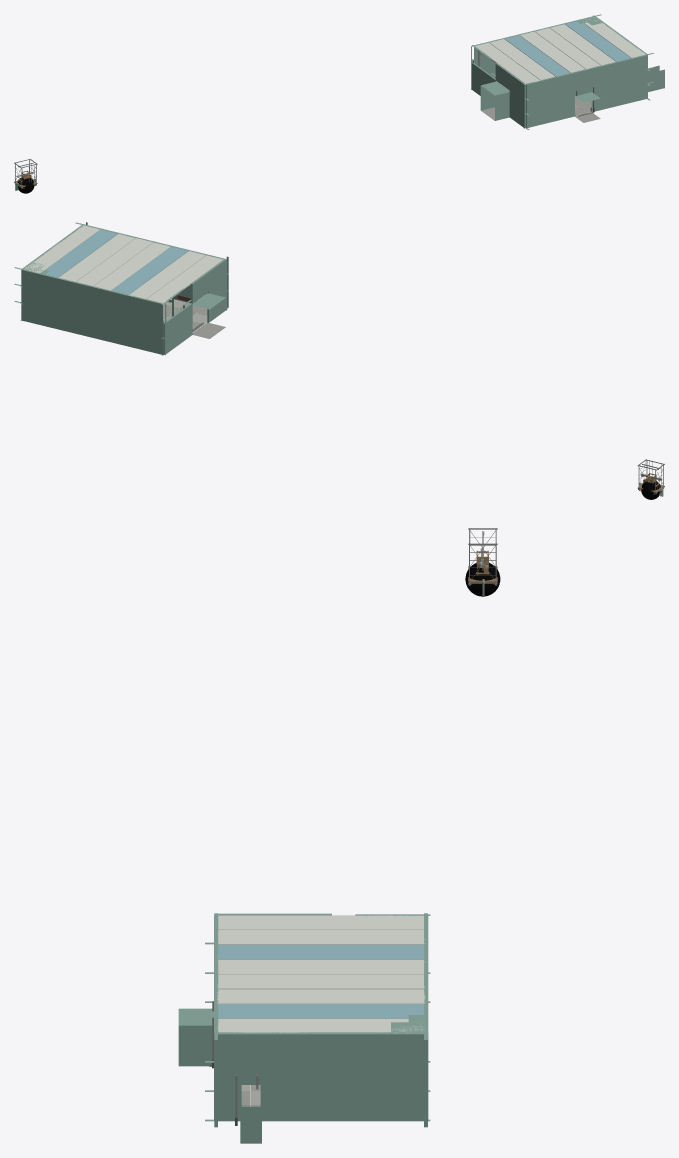
File: source-earthfall-ellery-aside.glb
The picture shows the model from 3 angles, top to bottom: view 1: azimuth 30°, elevation 25°; view 2: azimuth 150°, elevation 25°; view 3: azimuth 270°, elevation 25°; orthographic projection. The views are drawn at different scales.
Parts seen in each view (by area): view 1: earthfall_ellery_return:dock-grey-exterior, earthfall_ellery_roof-east:1:0, earthfall_ellery_roof-west:1:0, earthfall_ellery_roof-west:1:1, earthfall_ellery_roof-east:1:1, earthfall_ellery_roof-west:0:1, earthfall_ellery_roof-east:0:0, earthfall_ellery_roof-west:0:0, earthfall_ellery_roof-east:2:0, earthfall_ellery_roof-west:2:1, earthfall_ellery_roof-east:2:1, earthfall_ellery_roof-west:2:0 (+5 smaller); view 2: earthfall_ellery_roof-west:1:0, earthfall_ellery_roof-west:1:1, earthfall_ellery_roof-east:1:0, earthfall_ellery_roof-east:1:1, earthfall_ellery_roof-east:0:0, earthfall_ellery_roof-west:0:1, earthfall_ellery_roof-west:0:0, earthfall_ellery_roof-east:0:1, earthfall_ellery_roof-west:2:1, earthfall_ellery_roof-west:2:0, earthfall_ellery_roof-east:2:0, earthfall_ellery_roof-east:2:1 (+1 smaller); view 3: earthfall_ellery_roof-west:1:0, earthfall_ellery_roof-east:1:0, earthfall_ellery_roof-west:1:1, earthfall_ellery_roof-east:1:1, earthfall_ellery_roof-east:0:0, earthfall_ellery_roof-west:0:1, earthfall_ellery_roof-west:0:0, earthfall_ellery_return:dock-inner-service, earthfall_ellery_roof-east:2:0, earthfall_ellery_roof-west:2:1, earthfall_ellery_roof-west:2:0, earthfall_ellery_roof-east:2:1 (+15 smaller).
Boxes of the visible parts, box(x1,y1,x2,y2) form: earthfall_ellery_return:dock-grey-exterior: box(480, 81, 509, 120); earthfall_ellery_roof-east:1:0: box(552, 37, 600, 57); earthfall_ellery_roof-west:1:0: box(491, 51, 539, 72); earthfall_ellery_roof-west:1:1: box(521, 44, 569, 65); earthfall_ellery_roof-east:1:1: box(582, 29, 629, 50); earthfall_ellery_roof-west:0:1: box(504, 31, 551, 51); earthfall_ellery_roof-east:0:0: box(535, 24, 581, 43); earthfall_ellery_roof-west:0:0: box(475, 39, 520, 58); earthfall_ellery_roof-east:2:0: box(571, 50, 615, 69); earthfall_ellery_roof-west:2:1: box(540, 58, 585, 76); earthfall_ellery_roof-east:2:1: box(601, 43, 645, 61); earthfall_ellery_roof-west:2:0: box(510, 65, 554, 83); earthfall_ellery_roof-west:1:0: box(149, 264, 205, 288); earthfall_ellery_roof-west:1:1: box(114, 255, 170, 279); earthfall_ellery_roof-east:1:0: box(79, 247, 135, 271); earthfall_ellery_roof-east:1:1: box(44, 238, 99, 262); earthfall_ellery_roof-east:0:0: box(59, 263, 113, 286); earthfall_ellery_roof-west:0:1: box(94, 271, 148, 294); earthfall_ellery_roof-west:0:0: box(129, 280, 182, 303); earthfall_ellery_roof-east:0:1: box(24, 254, 77, 277); earthfall_ellery_roof-west:2:1: box(136, 242, 188, 264); earthfall_ellery_roof-west:2:0: box(171, 251, 223, 272); earthfall_ellery_roof-east:2:0: box(101, 234, 152, 255); earthfall_ellery_roof-east:2:1: box(66, 225, 117, 246); earthfall_ellery_roof-west:1:0: box(280, 915, 355, 944); earthfall_ellery_roof-east:1:0: box(280, 974, 355, 1003); earthfall_ellery_roof-west:1:1: box(280, 945, 355, 974); earthfall_ellery_roof-east:1:1: box(280, 1004, 355, 1032); earthfall_ellery_roof-east:0:0: box(355, 974, 425, 1003); earthfall_ellery_roof-west:0:1: box(355, 945, 425, 974); earthfall_ellery_roof-west:0:0: box(355, 915, 425, 944); earthfall_ellery_return:dock-inner-service: box(178, 1008, 213, 1066); earthfall_ellery_roof-east:2:0: box(217, 974, 279, 1003); earthfall_ellery_roof-west:2:1: box(217, 945, 279, 974); earthfall_ellery_roof-west:2:0: box(218, 915, 279, 944); earthfall_ellery_roof-east:2:1: box(217, 1004, 279, 1032).
Size of the model in its own units: 77.75 by 6.5 by 18.4.
Materials: 26 (7 with a texture image).
